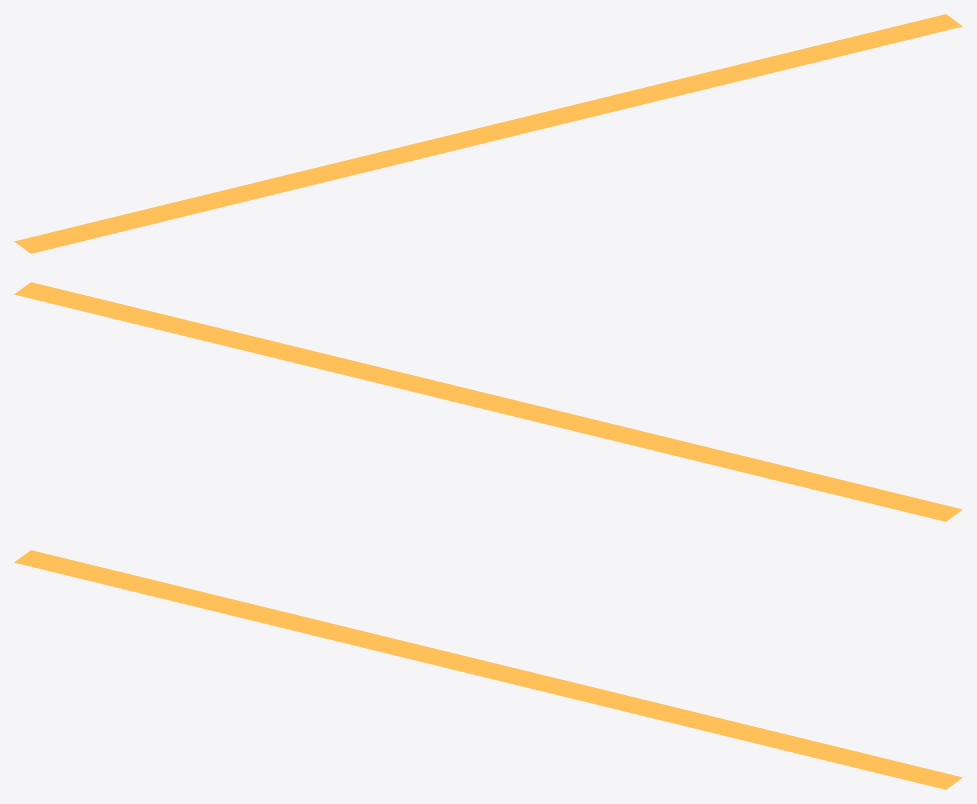
The model's file is burn_line_strip.glb.
The picture shows the model from 3 angles, top to bottom: view 1: azimuth 30°, elevation 25°; view 2: azimuth 150°, elevation 25°; view 3: azimuth 330°, elevation 25°; orthographic projection.
Visible parts, largest first — view 1: burn_line_strip; view 2: burn_line_strip; view 3: burn_line_strip.
Part boxes in pixels (box(x1,y1,x2,y2)): burn_line_strip: box(14, 14, 962, 253); burn_line_strip: box(14, 282, 962, 521); burn_line_strip: box(14, 550, 962, 789).
Bounding box in the file's own units: 1.9 × 0 × 0.06.
